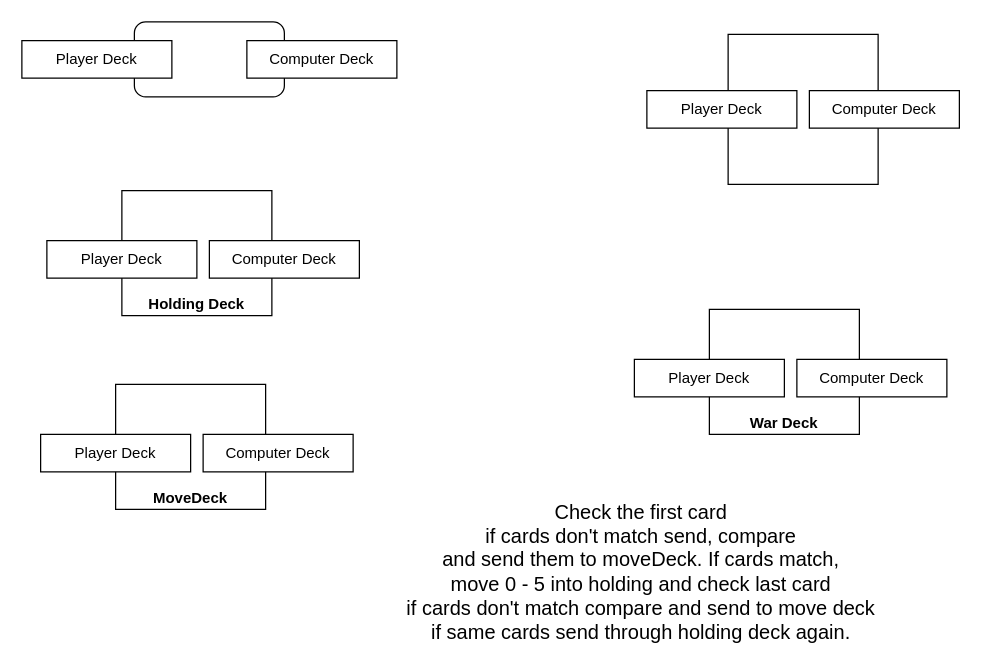
Image size: 981x669. Some labels were removed from this diagram. Each missing label, with the box of its shape:
Check First Card: (727, 33, 878, 184)
Deck: (133, 21, 284, 97)
